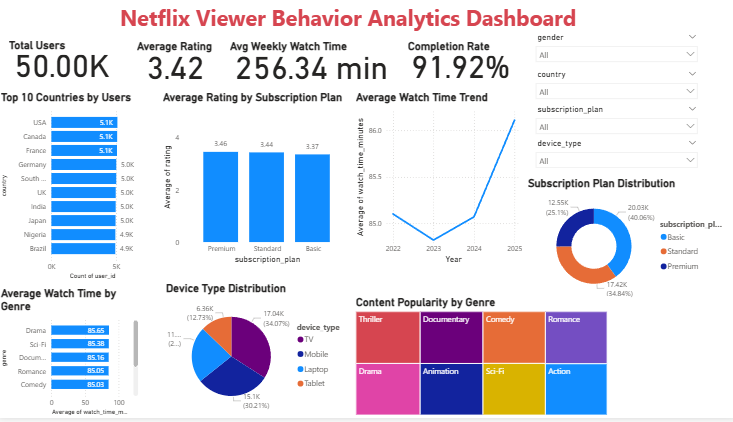

Layout of this report page (visuals, bound fields, positions):
{"tool":"powerbi","page":{"name":"Page 1","canvas":[1280,720],"ordinal":0},"visuals":[{"type":"textbox","box":[206.6,0,1051.5,73.9],"z":0},{"type":"card","title":"Total Users","fields":{"Values":["CountNonNull(netflix_cleaned.user_id)"]},"box":[15.5,67.2,191.4,79.3],"z":1},{"type":"card","title":"Average Rating","fields":{"Values":["Avg(netflix_cleaned.rating)"]},"box":[236.2,69,143.1,82.8],"z":2},{"type":"card","title":"Avg Weekly Watch Time","fields":{"Values":["netflix_cleaned.Avg Weekly Watch Time (min)"]},"box":[396.6,69,291.4,82.8],"z":3},{"type":"card","title":"Completion Rate","fields":{"Values":["netflix_cleaned.Completion Rate"]},"box":[703.4,69,191.4,77.6],"z":4},{"type":"donutChart","title":"Subscription Plan Distribution","fields":{"Category":["netflix_cleaned.subscription_plan"],"Y":["Count(netflix_cleaned.user_id)"]},"box":[910.4,305.7,347.7,216.7],"z":5},{"type":"barChart","title":"Top 10 Countries by Users","fields":{"Y":["Count(netflix_cleaned.user_id)"],"Category":["netflix_cleaned.country"]},"box":[1.7,156.9,246.6,329.3],"z":6},{"type":"pieChart","title":"Device Type Distribution","fields":{"Category":["netflix_cleaned.device_type"],"Y":["CountNonNull(netflix_cleaned.user_id)"]},"box":[286.2,486.2,327.6,234.5],"z":7},{"type":"barChart","title":"Average Watch Time by Genre","fields":{"Category":["netflix_cleaned.genre"],"Y":["Avg(netflix_cleaned.watch_time_minutes)"]},"box":[1.7,494.8,246.6,225.9],"z":8},{"type":"columnChart","title":"Average Rating by Subscription Plan","fields":{"Category":["netflix_cleaned.subscription_plan"],"Y":["Avg(netflix_cleaned.rating)"]},"box":[281,156.9,332.8,303.4],"z":9},{"type":"lineChart","title":"Average Watch Time Trend","fields":{"Category":["netflix_cleaned.date_watched.Variation.Date Hierarchy.Year","netflix_cleaned.date_watched.Variation.Date Hierarchy.Quarter","netflix_cleaned.date_watched.Variation.Date Hierarchy.Month","netflix_cleaned.date_watched.Variation.Date Hierarchy.Day"],"Y":["Avg(netflix_cleaned.watch_time_minutes)"]},"box":[613.8,156.9,296.6,303.4],"z":10},{"type":"treemap","title":"Content Popularity by Genre","fields":{"Group":["netflix_cleaned.genre"],"Values":["CountNonNull(netflix_cleaned.user_id)"]},"box":[613.8,510.3,443.1,210.3],"z":12},{"type":"slicer","title":"Gender","fields":{"Values":["netflix_cleaned.gender"]},"box":[918.8,52.1,299,62.2],"z":13},{"type":"slicer","fields":{"Values":["netflix_cleaned.country"]},"box":[918.8,115.9,299,60.5],"z":14},{"type":"slicer","fields":{"Values":["netflix_cleaned.subscription_plan"]},"box":[918.8,176.4,299,58.8],"z":15},{"type":"slicer","fields":{"Values":["netflix_cleaned.device_type"]},"box":[918.8,235.2,299,55.4],"z":16}]}

Visuals, with their boxes in screenshot pixels (x1, y1, x2, y2), scaled from the page's 1280x720 canvas onto the 733x422 screenshot:
textbox: bbox=[118, 0, 720, 43]
"Total Users" card: bbox=[9, 39, 118, 86]
"Average Rating" card: bbox=[135, 40, 217, 89]
"Avg Weekly Watch Time" card: bbox=[227, 40, 394, 89]
"Completion Rate" card: bbox=[403, 40, 512, 86]
"Subscription Plan Distribution" donutChart: bbox=[521, 179, 720, 306]
"Top 10 Countries by Users" barChart: bbox=[1, 92, 142, 285]
"Device Type Distribution" pieChart: bbox=[164, 285, 351, 421]
"Average Watch Time by Genre" barChart: bbox=[1, 290, 142, 421]
"Average Rating by Subscription Plan" columnChart: bbox=[161, 92, 351, 270]
"Average Watch Time Trend" lineChart: bbox=[351, 92, 521, 270]
"Content Popularity by Genre" treemap: bbox=[351, 299, 605, 421]
"Gender" slicer: bbox=[526, 31, 697, 67]
slicer - netflix_cleaned.country: bbox=[526, 68, 697, 103]
slicer - netflix_cleaned.subscription_plan: bbox=[526, 103, 697, 138]
slicer - netflix_cleaned.device_type: bbox=[526, 138, 697, 170]
